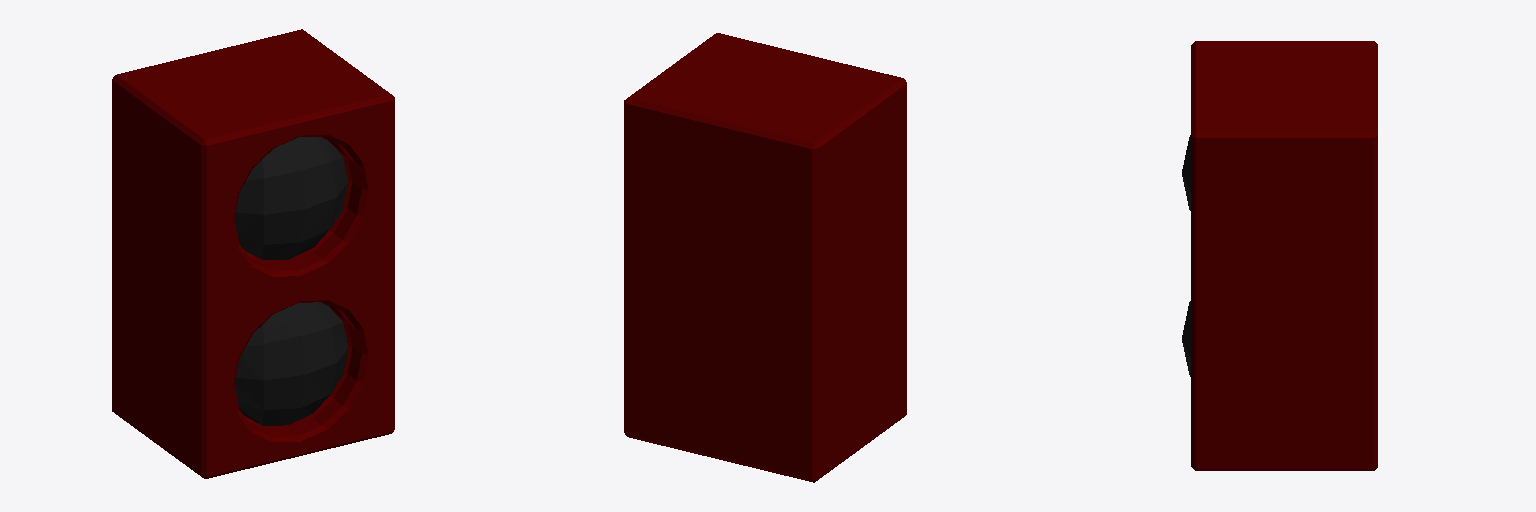
The model's file is glosnik.obj.
The picture shows the model from 3 angles: view 1: azimuth 30°, elevation 25°; view 2: azimuth 150°, elevation 25°; view 3: azimuth 270°, elevation 25°; orthographic projection.
Visible parts, largest first — view 1: Cube; view 2: Cube; view 3: Cube.
Boxes of the visible parts, x1,y1,x2,y2 form: Cube: [112, 29, 394, 478]; Cube: [624, 33, 906, 482]; Cube: [1182, 41, 1377, 470].
Bounding box in the file's own units: 1.2 × 2 × 1.05.